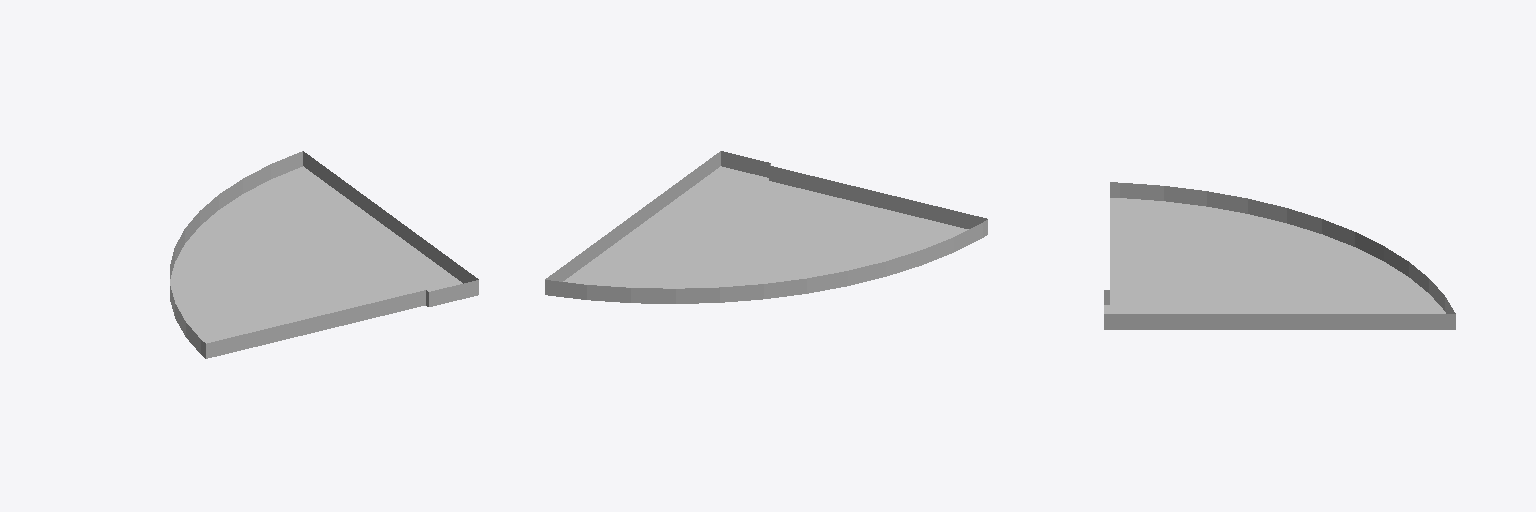
The model's file is original-15.obj.
3 renders of one model, left to right at view 1: azimuth 30°, elevation 25°; view 2: azimuth 150°, elevation 25°; view 3: azimuth 270°, elevation 25°, orthographic.
Visible parts, largest first — view 1: #ID63; view 2: #ID63; view 3: #ID63.
Boxes of the visible parts, <box> form: #ID63: <box>170,151,478,358</box>; #ID63: <box>545,151,987,303</box>; #ID63: <box>1104,182,1455,329</box>.
Bounding box in the file's own units: 0.1339 × 0.0073 × 0.151.